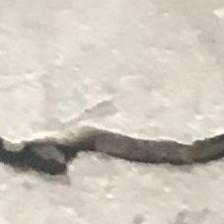Crack: (0, 88, 224, 190)
